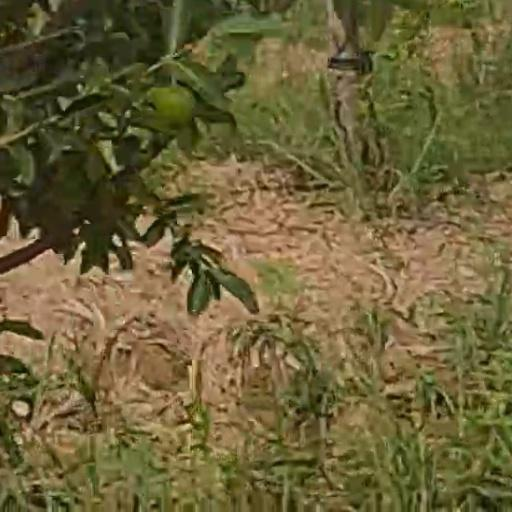acerola: (149, 87, 194, 128)
